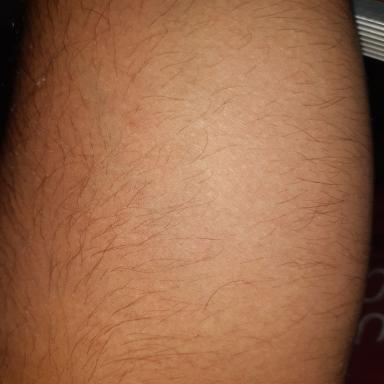normal skin: (2, 0, 371, 384)
